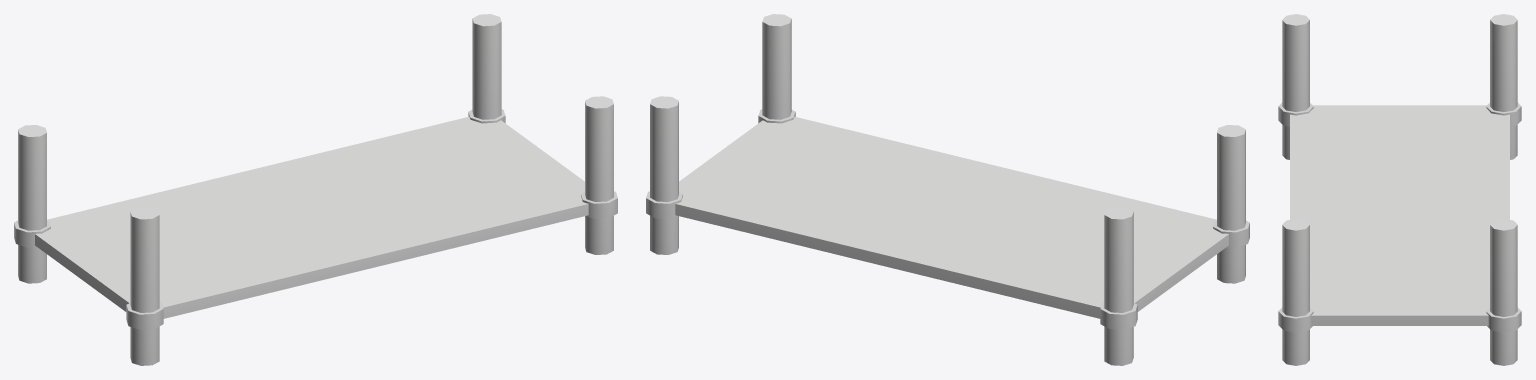
File: Table_Leg_01_D_C02.fbx
3 views of the same model, side by side, from view 1: azimuth 30°, elevation 25°; view 2: azimuth 150°, elevation 25°; view 3: azimuth 270°, elevation 25° (orthographic). The views are drawn at different scales.
Visible parts, largest first — view 1: Table_Leg_01_D_C02; view 2: Table_Leg_01_D_C02; view 3: Table_Leg_01_D_C02.
Part boxes in pixels (left/top/right/bottom): Table_Leg_01_D_C02: left=14, top=14, right=617, bottom=365; Table_Leg_01_D_C02: left=646, top=14, right=1249, bottom=365; Table_Leg_01_D_C02: left=1278, top=14, right=1521, bottom=365.
Bounding box in the file's own units: 188 × 53.91 × 87.78.
